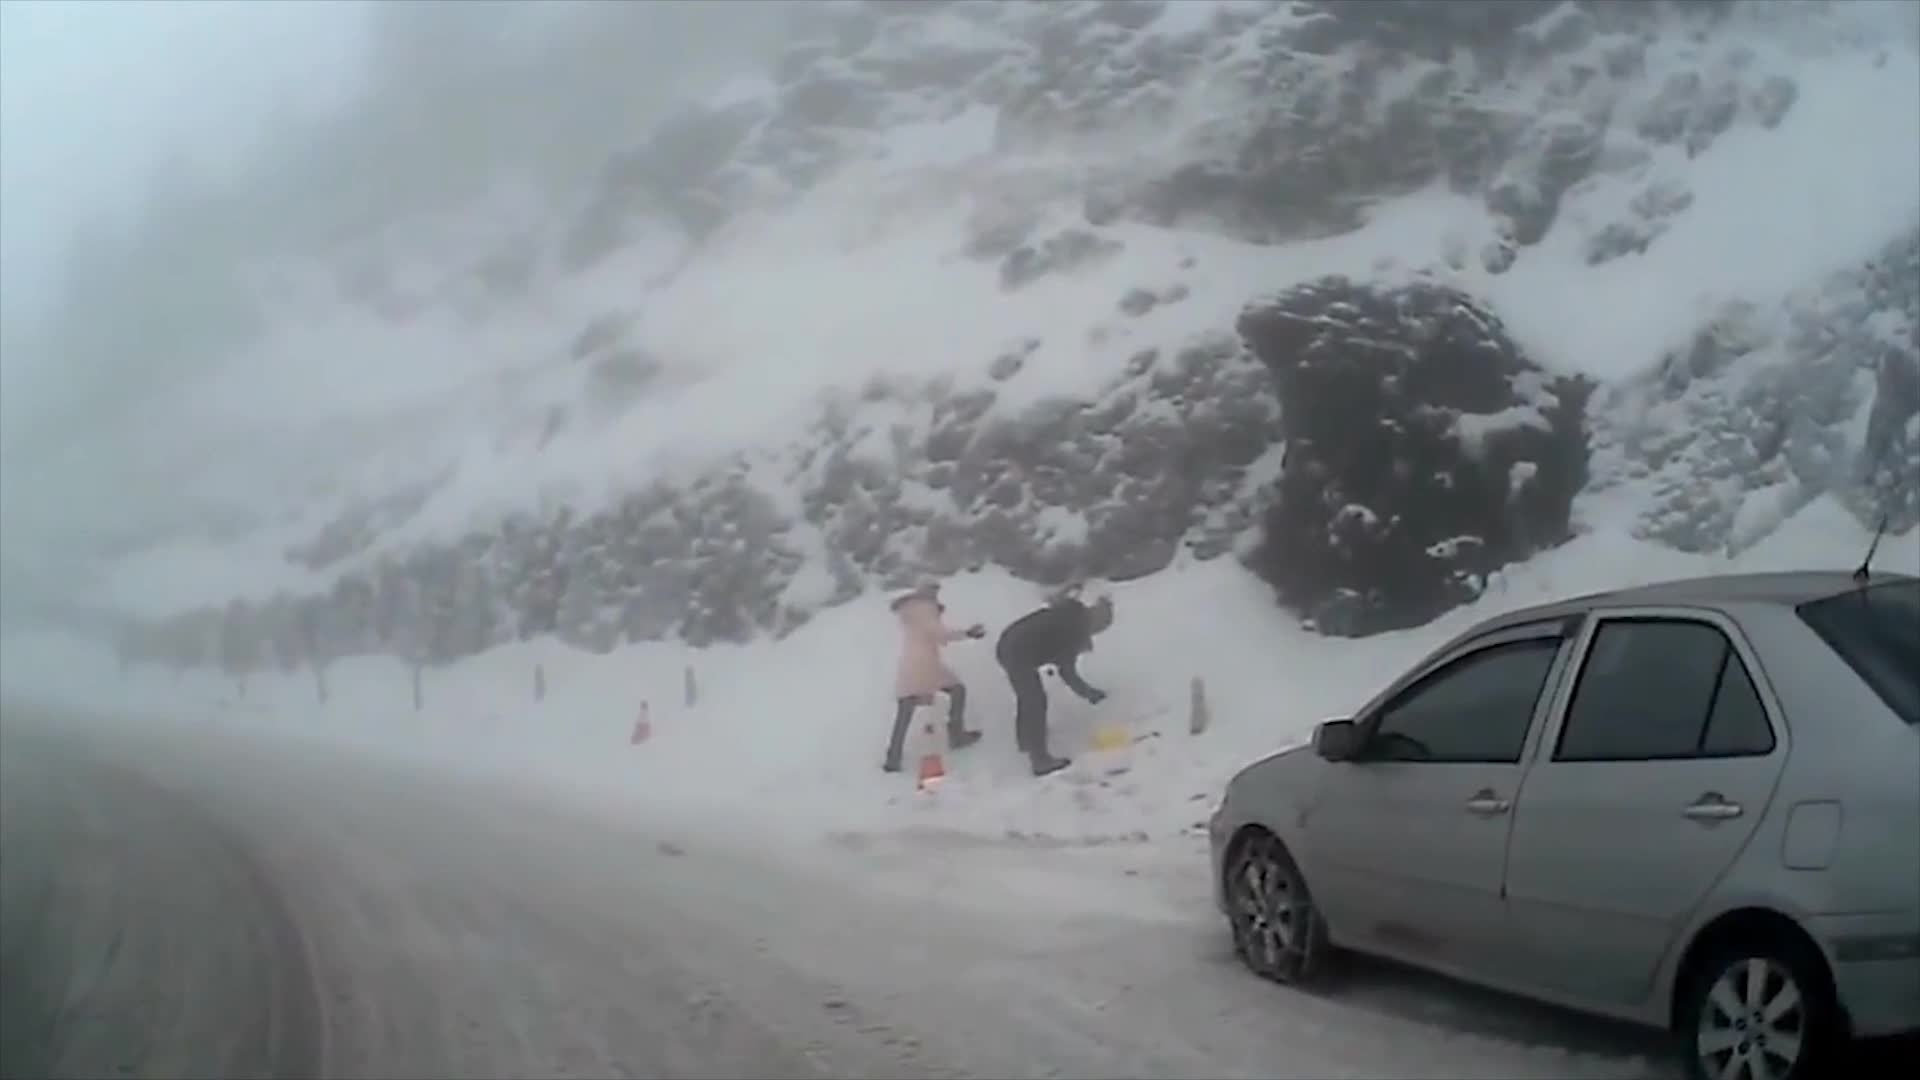pedestrian: (875, 571, 991, 772), (993, 592, 1112, 775)
vehicle: (1207, 567, 1920, 1080)
